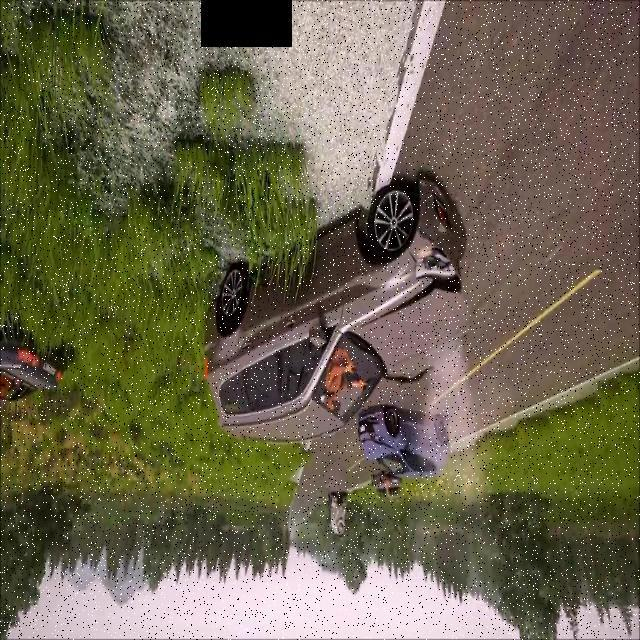vehicle: (180, 153, 503, 444), (349, 354, 567, 511)
